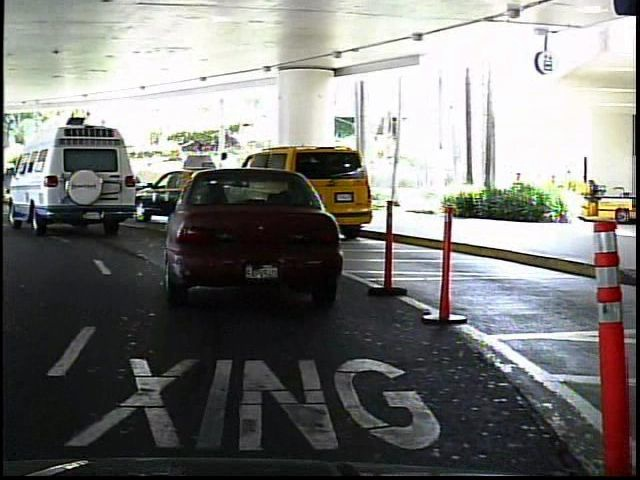person: (213, 148, 240, 216), (49, 156, 69, 199)
